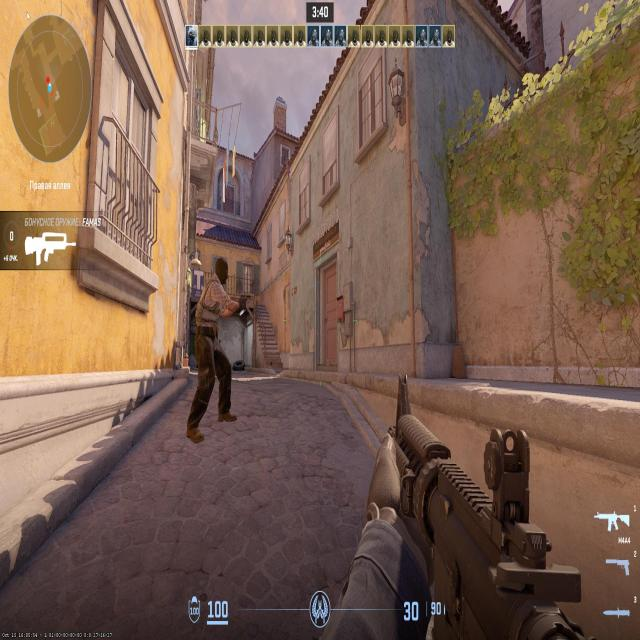T: (202, 258, 230, 422)
T_heat: (214, 258, 224, 285)
